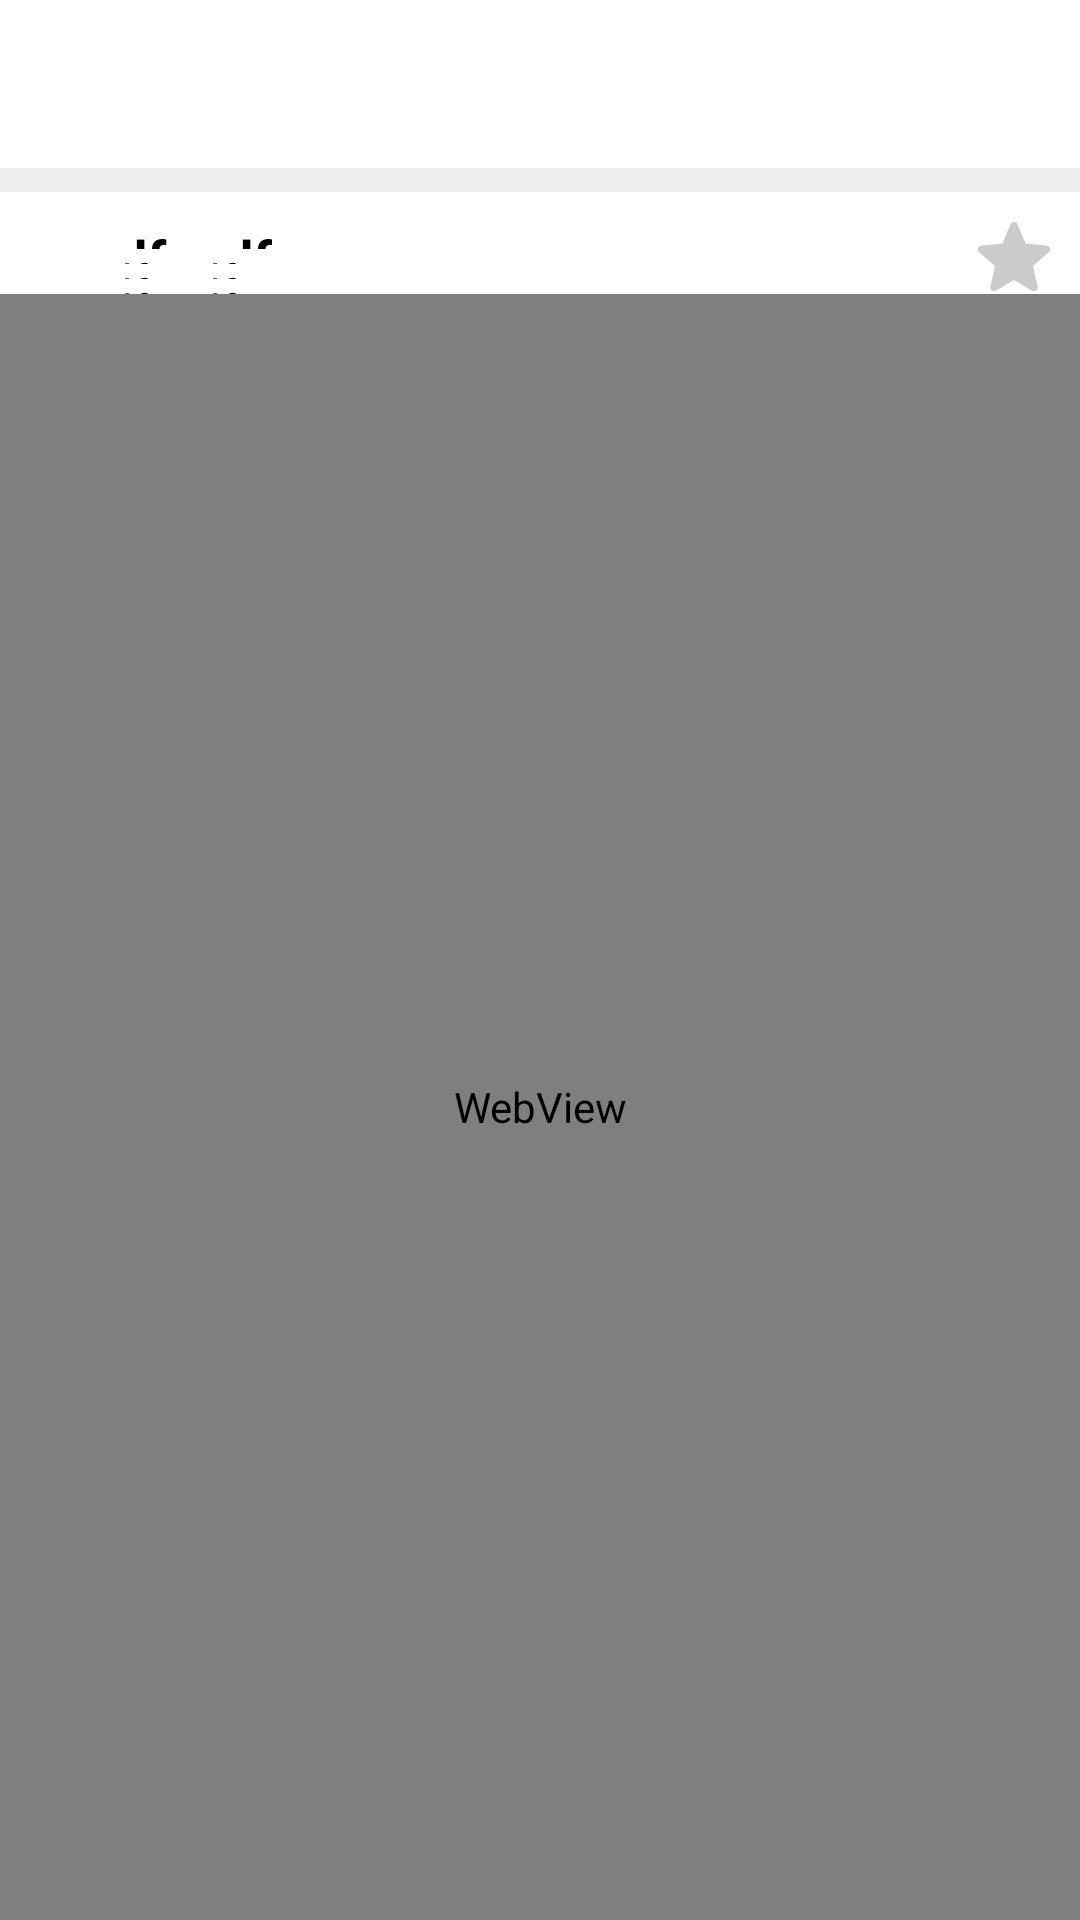

Named icons in this screenshot (1080px×1920px) and their bounding boxes, (x1, y1, x2, y2):
star: (978, 222, 1050, 291)
